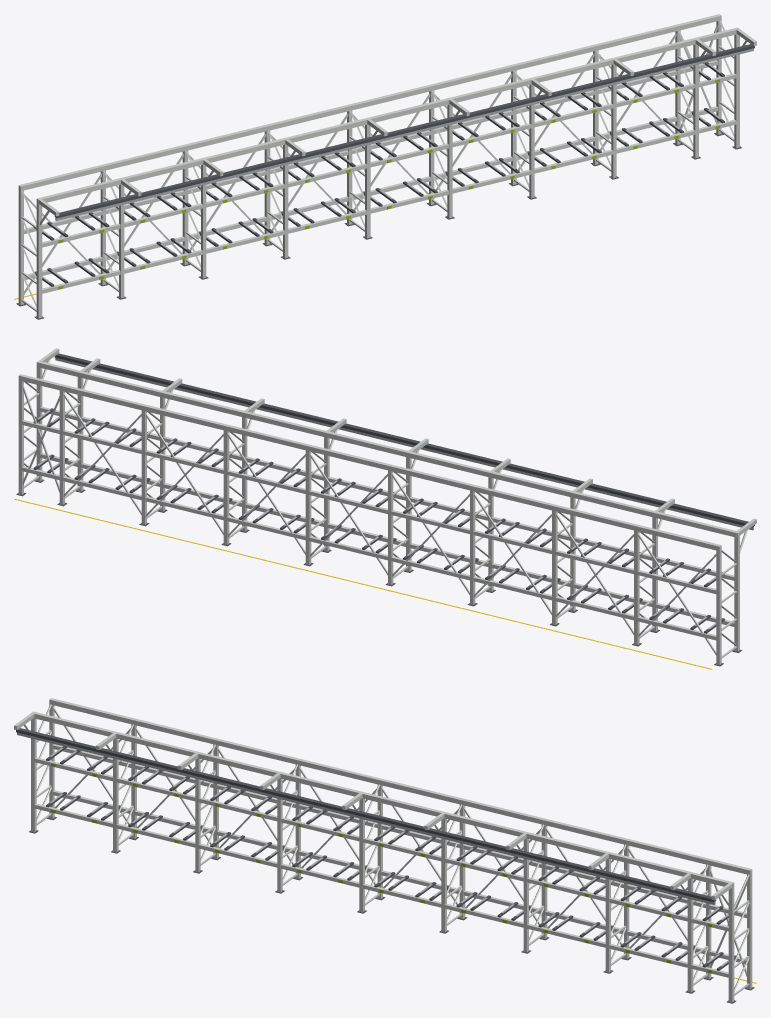
File: lp_rack_2L_17S.glb
3 views of the same model, one above another, from view 1: azimuth 30°, elevation 25°; view 2: azimuth 150°, elevation 25°; view 3: azimuth 330°, elevation 25° (orthographic).
Visible parts, largest first — view 1: rack_frame__truss_white, rack_frame__steel_dark, rack_frame__steel, rack_frame__lime; view 2: rack_frame__truss_white, rack_frame__steel_dark, rack_frame__steel, rack_frame__yellow; view 3: rack_frame__truss_white, rack_frame__steel_dark, rack_frame__steel, rack_frame__lime.
Part boxes in pixels (bbox=[...]): rack_frame__truss_white: bbox=[18, 14, 756, 318]; rack_frame__steel_dark: bbox=[16, 44, 754, 319]; rack_frame__steel: bbox=[42, 48, 753, 282]; rack_frame__lime: bbox=[58, 79, 719, 289]; rack_frame__truss_white: bbox=[18, 348, 756, 664]; rack_frame__steel_dark: bbox=[16, 353, 754, 666]; rack_frame__steel: bbox=[37, 357, 753, 629]; rack_frame__yellow: bbox=[14, 499, 712, 669]; rack_frame__truss_white: bbox=[14, 698, 752, 1002]; rack_frame__steel_dark: bbox=[16, 728, 754, 1003]; rack_frame__steel: bbox=[17, 732, 728, 966]; rack_frame__lime: bbox=[51, 763, 712, 973].
Size of the model in its own units: 22.3 by 3.6 by 2.4.
